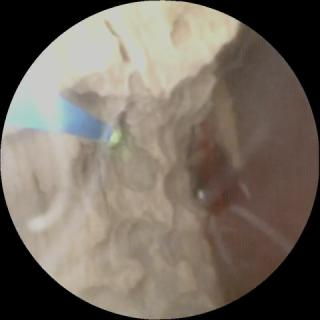fiber: (64, 100, 110, 138)
stone: (6, 7, 240, 314)
